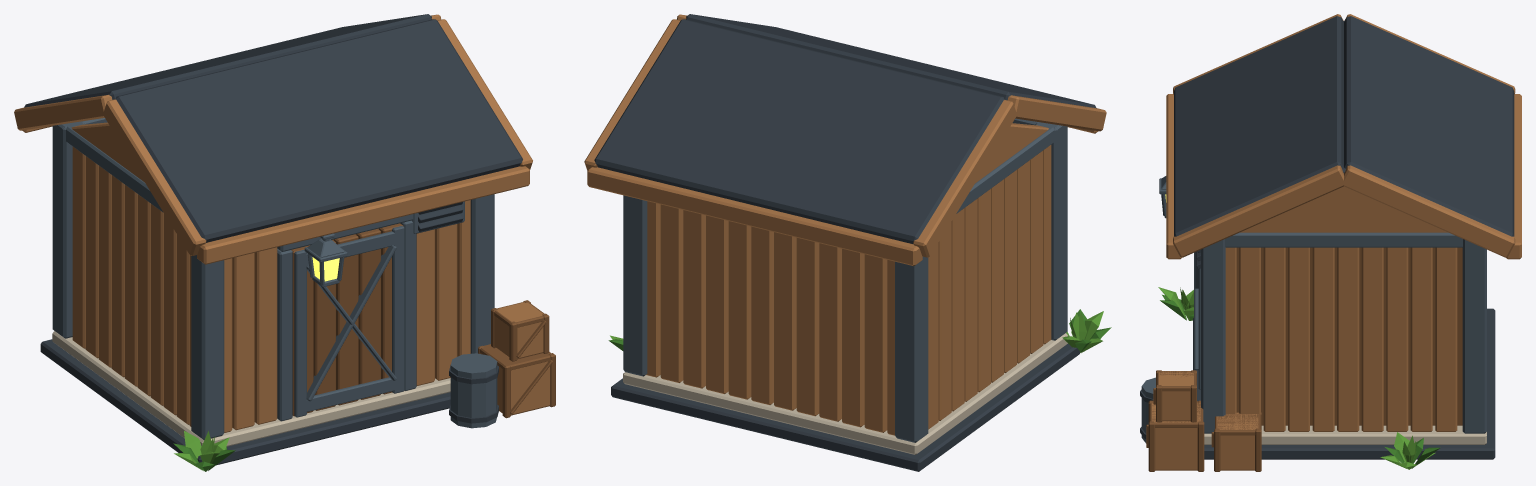
File: Lobby_StorageShed.fbx
3 views of the same model, side by side, from view 1: azimuth 30°, elevation 25°; view 2: azimuth 150°, elevation 25°; view 3: azimuth 270°, elevation 25° (orthographic). The views are drawn at different scales.
Parts seen in each view (by area): view 1: Roof, Wood, Frame, Fascia, Door, DoorBrace, FrameDark, Concrete, Props, PropsTrim, PropsSteel, Leaf (+1 smaller); view 2: Wood, Roof, Frame, Fascia, FrameDark, Concrete, Leaf; view 3: Roof, Wood, Frame, Fascia, WoodDark, Props, FrameDark, PropsTrim, Concrete, Leaf, DoorBrace, LeafDark (+1 smaller).
Part boxes in pixels (bbox=[...]): Roof: bbox=[24, 14, 522, 242]; Wood: bbox=[71, 122, 470, 432]; Frame: bbox=[52, 118, 494, 439]; Fascia: bbox=[14, 14, 532, 264]; Door: bbox=[291, 223, 403, 416]; DoorBrace: bbox=[294, 226, 404, 417]; FrameDark: bbox=[40, 202, 463, 465]; Concrete: bbox=[52, 331, 450, 446]; Props: bbox=[480, 302, 549, 415]; PropsTrim: bbox=[478, 300, 555, 418]; PropsSteel: bbox=[450, 353, 497, 428]; Leaf: bbox=[174, 431, 229, 471]; Wood: bbox=[646, 123, 1051, 435]; Roof: bbox=[594, 14, 1096, 244]; Frame: bbox=[623, 118, 1067, 442]; Fascia: bbox=[584, 14, 1106, 265]; FrameDark: bbox=[611, 343, 1079, 471]; Concrete: bbox=[623, 333, 1067, 454]; Leaf: bbox=[610, 311, 1103, 352]; Roof: bbox=[1174, 16, 1514, 236]; Wood: bbox=[1225, 186, 1457, 431]; Frame: bbox=[1159, 176, 1486, 433]; Fascia: bbox=[1166, 14, 1521, 259]; WoodDark: bbox=[1236, 247, 1462, 425]; Props: bbox=[1152, 371, 1258, 470]; FrameDark: bbox=[1193, 250, 1495, 459]; PropsTrim: bbox=[1146, 370, 1261, 471]; Concrete: bbox=[1204, 425, 1486, 444]; Leaf: bbox=[1158, 287, 1435, 469]; DoorBrace: bbox=[1194, 252, 1200, 389]; LeafDark: bbox=[1160, 294, 1440, 468].
Size of the model in its own units: 10.12 by 8.13 by 9.34.
